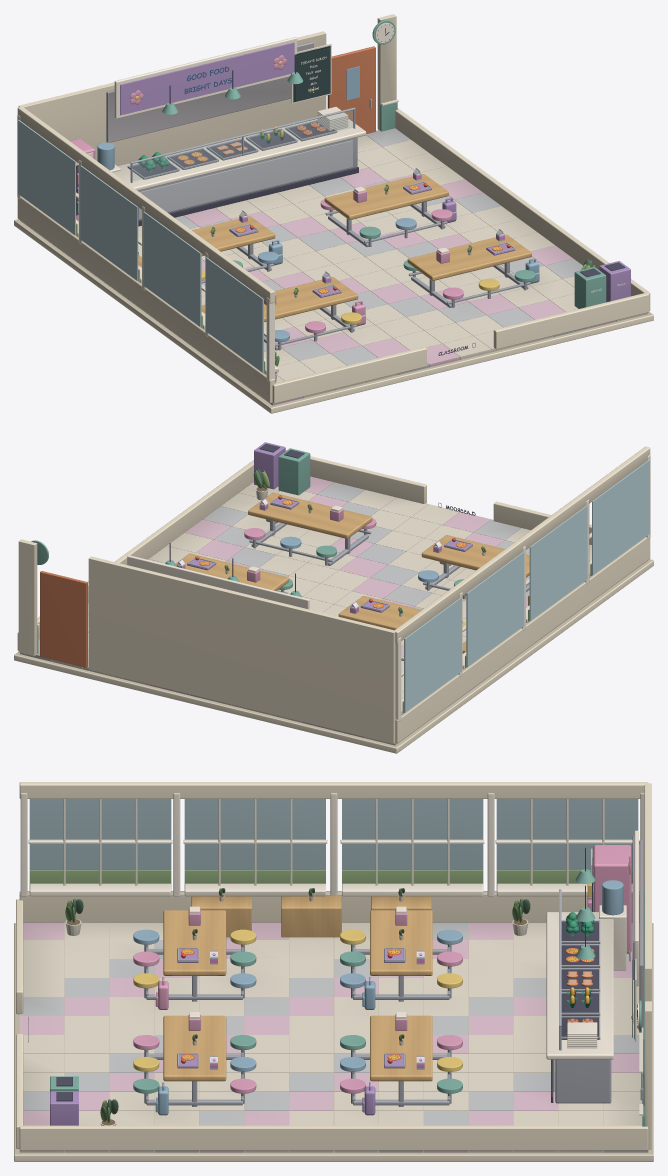
File: cafeteria.glb
3 views of the same model, one above another, from view 1: azimuth 30°, elevation 25°; view 2: azimuth 150°, elevation 25°; view 3: azimuth 270°, elevation 25° (orthographic). The views are drawn at different scales.
Visible parts, largest first — view 1: cafeteria; view 2: cafeteria; view 3: cafeteria.
Boxes of the visible parts, box(x1,y1,x2,y2) form: cafeteria: box(14, 14, 653, 413); cafeteria: box(14, 442, 653, 753); cafeteria: box(14, 782, 653, 1161).
Size of the model in its own units: 12.31 by 3.94 by 14.25.
Materials: 33 (9 with a texture image).
